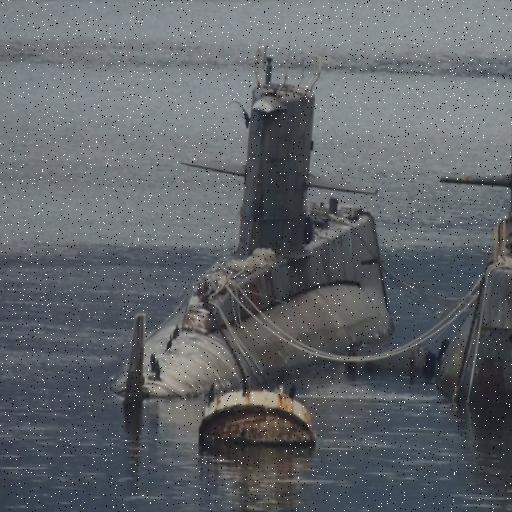submarine: (116, 55, 388, 401), (435, 57, 512, 400)
